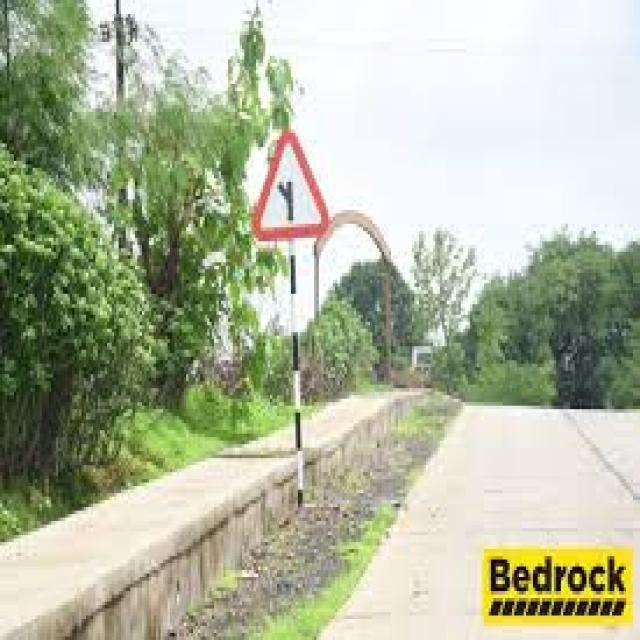y intersection: (253, 127, 326, 237)
